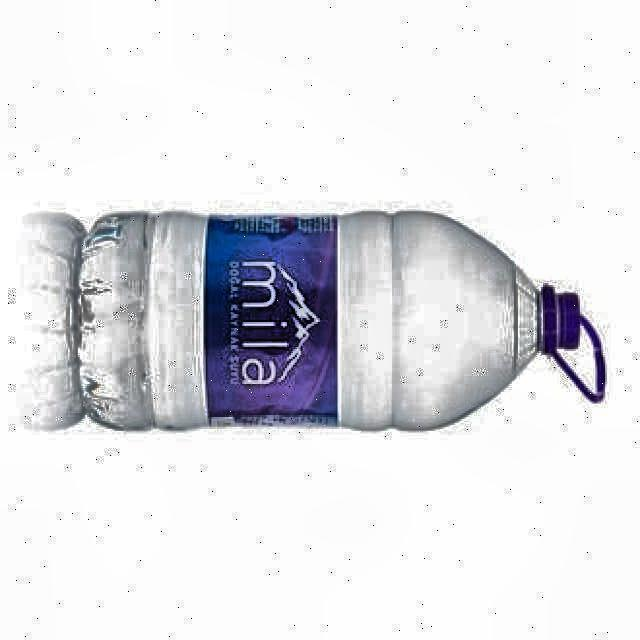plastic: (79, 212, 605, 429)
